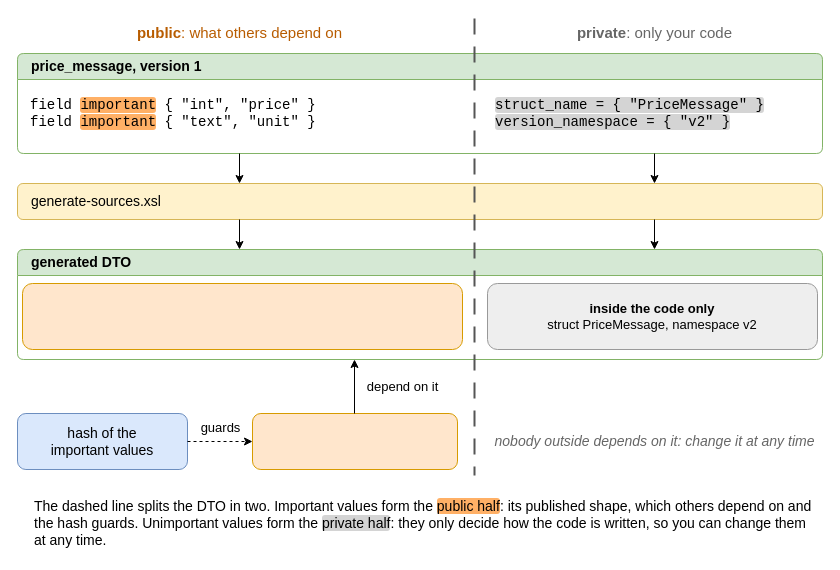
Some shapes in this 840 by 570 pixel diagram are drawn without their labels. Here are the shapes that lost their labels. From the top down, the centre of each, then its label:
At point (242, 316): "the published shape int price, text unit".
At point (355, 441): "other programs, stored files, clients in the field".
